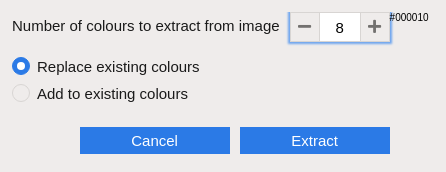
Scenario: Image colour extractor component › has decremented value when subtract button is clicked
This screenshot has width=446, height=172.
Replace the text in the number field with test id "ImageColourExtractor Number Input" with "5" at (340, 27), box left=320, top=12, right=360, bottom=42
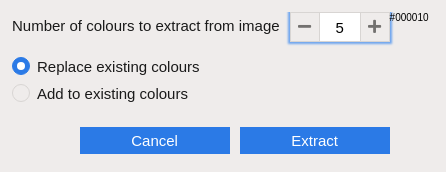
Click the button with test id "ImageColourExtractor Subtract Button" at (305, 27), box left=290, top=12, right=320, bottom=42
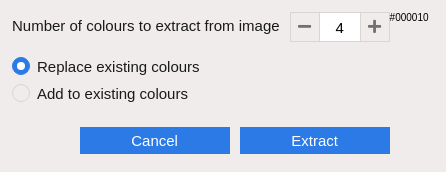
Check: the number field with test id "ImageColourExtractor Number Input" holds "4", box left=320, top=12, right=360, bottom=42
